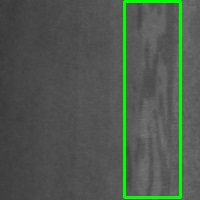inclusion: (124, 1, 180, 197)
